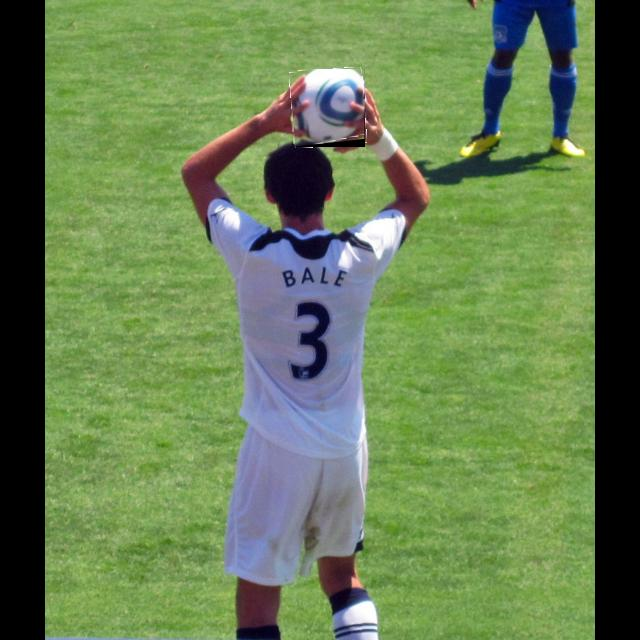Football: (291, 69, 365, 147)
